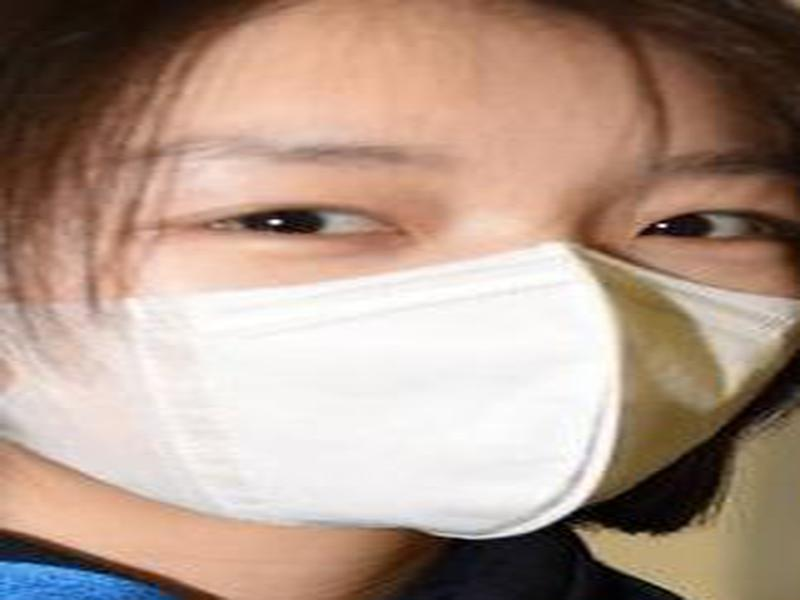with_mask: (1, 1, 795, 544)
